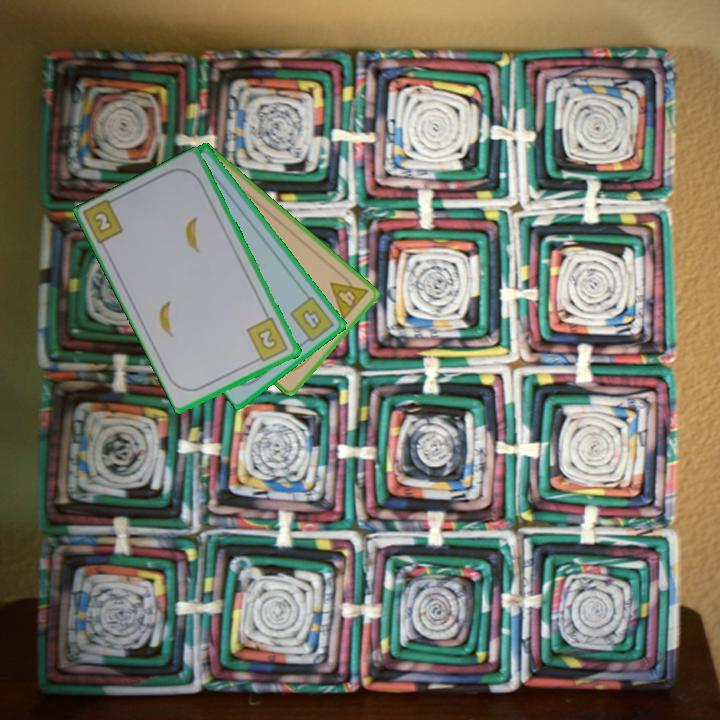2b: (243, 314, 291, 365), (89, 207, 116, 236)
4b: (286, 292, 337, 347)
4p: (326, 268, 371, 323)
